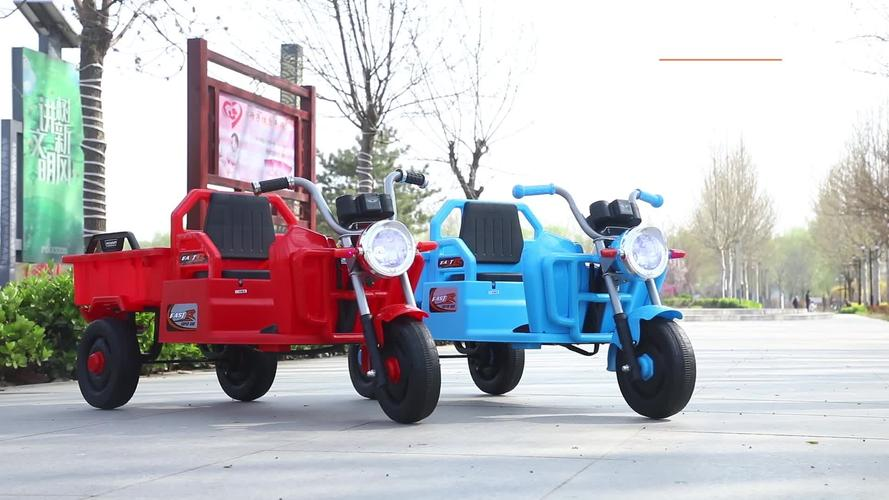empty: (65, 192, 449, 424), (415, 182, 696, 423)
